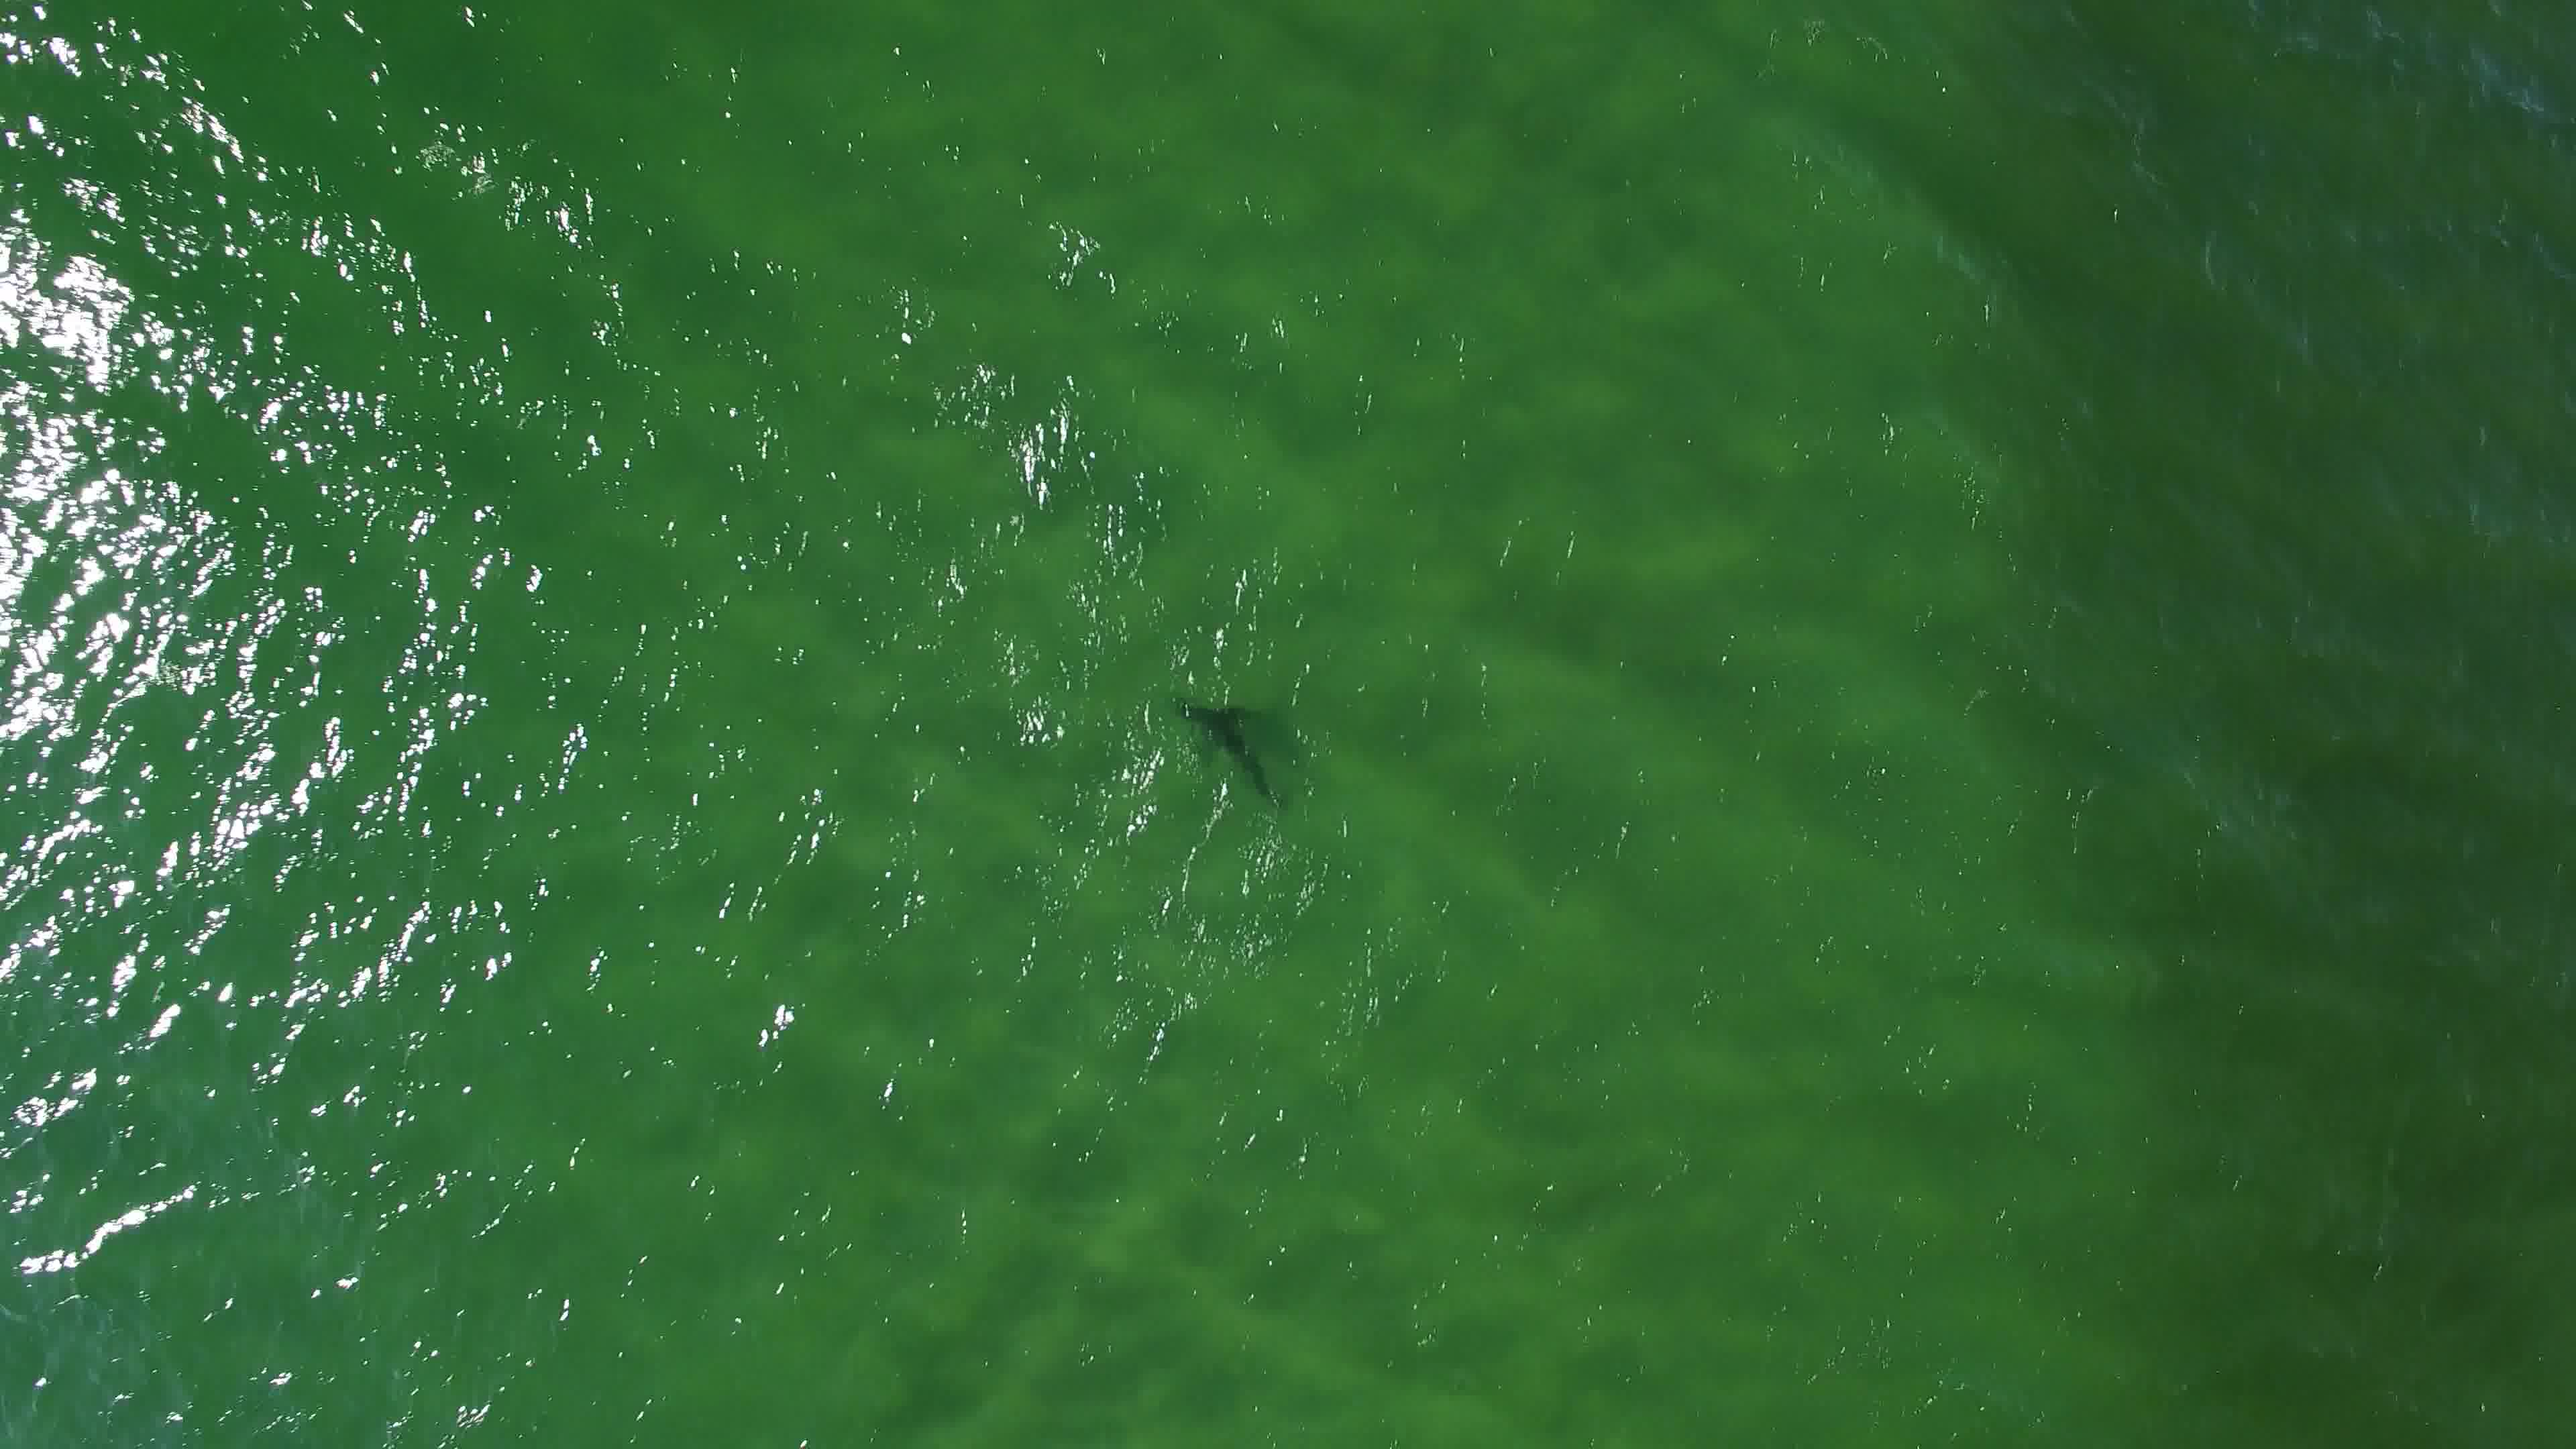shark: (1175, 692, 1281, 801)
